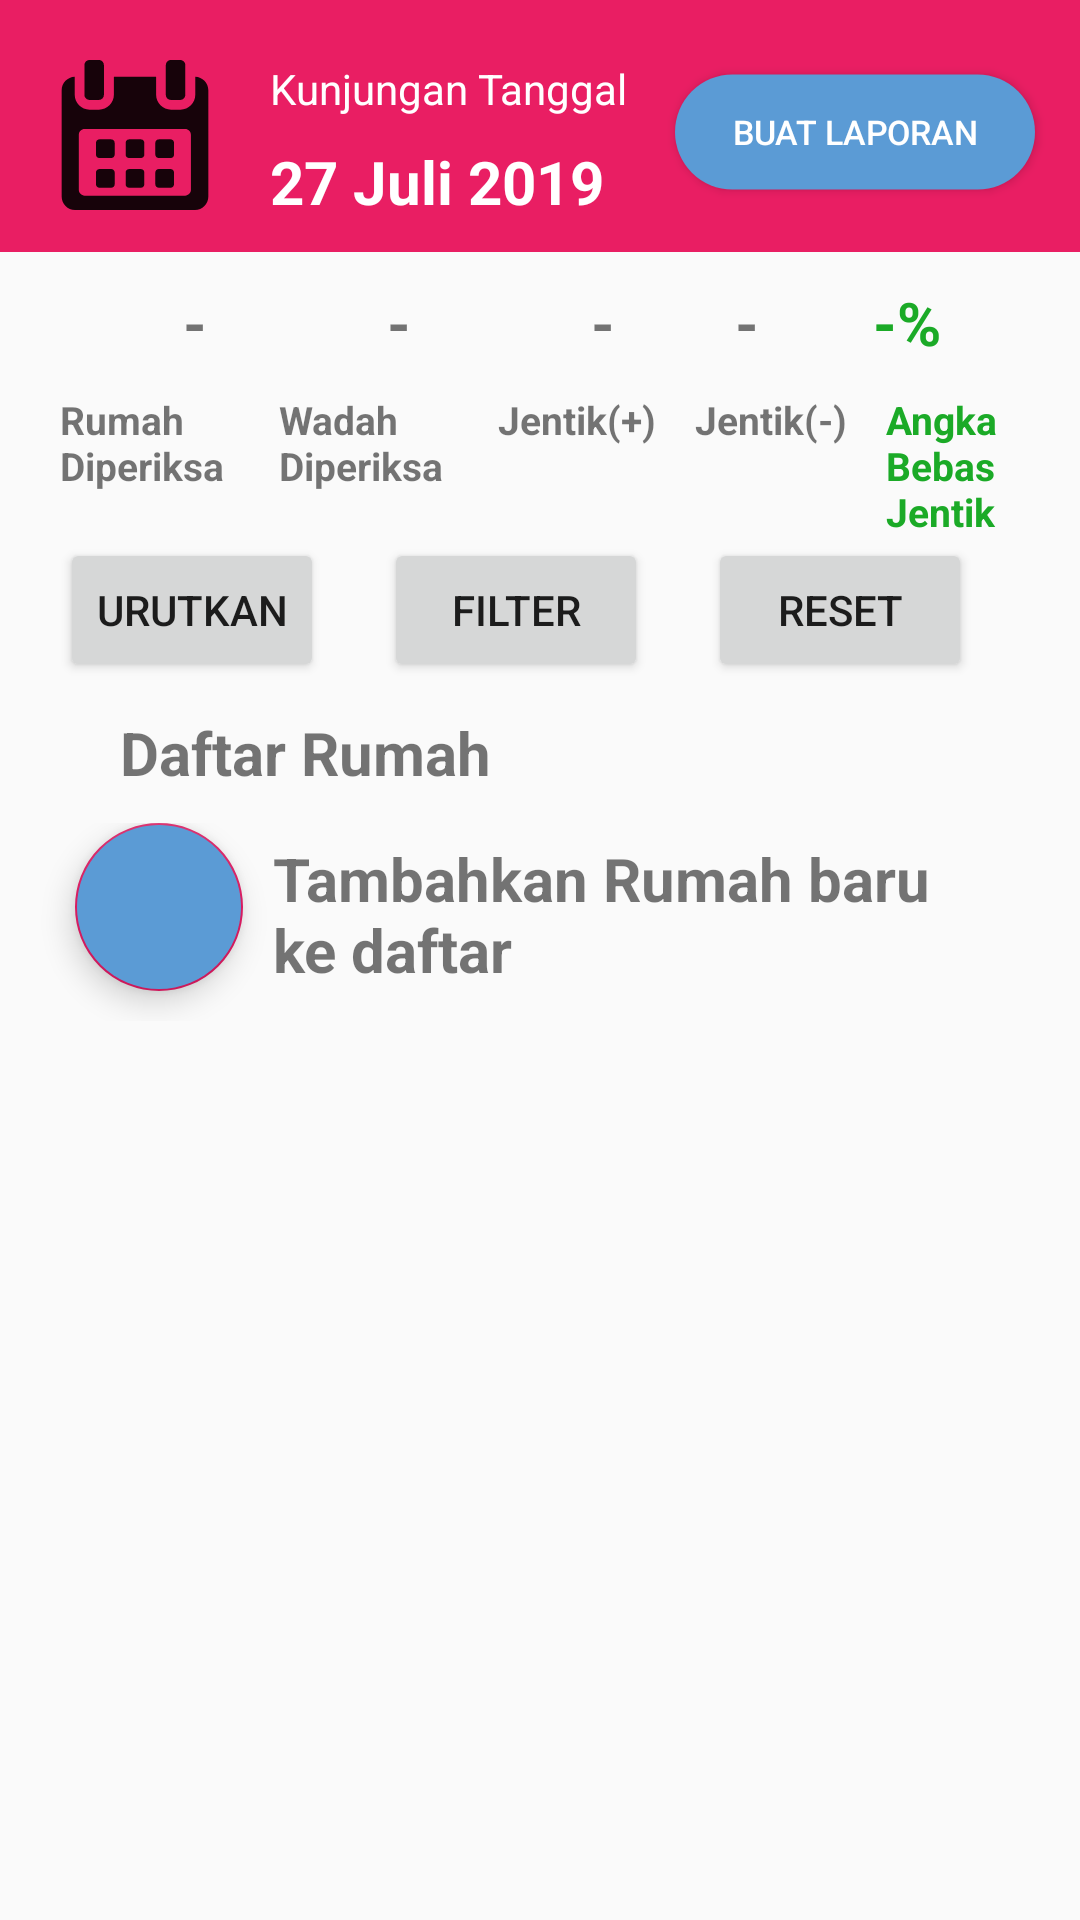

Where icons sit on this 1080w x 1920h app screen, as (x1, y1, x2, y2):
calendar: (61, 60, 209, 210)
